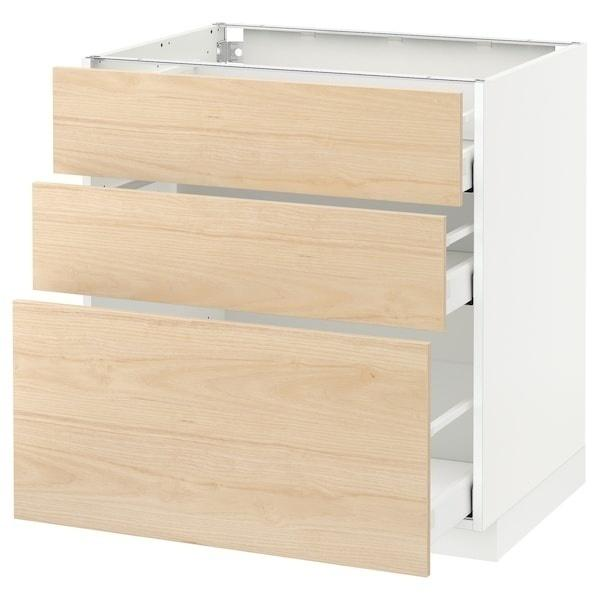cabinet_door: (13, 319, 425, 548), (32, 199, 444, 310), (58, 84, 455, 189)
